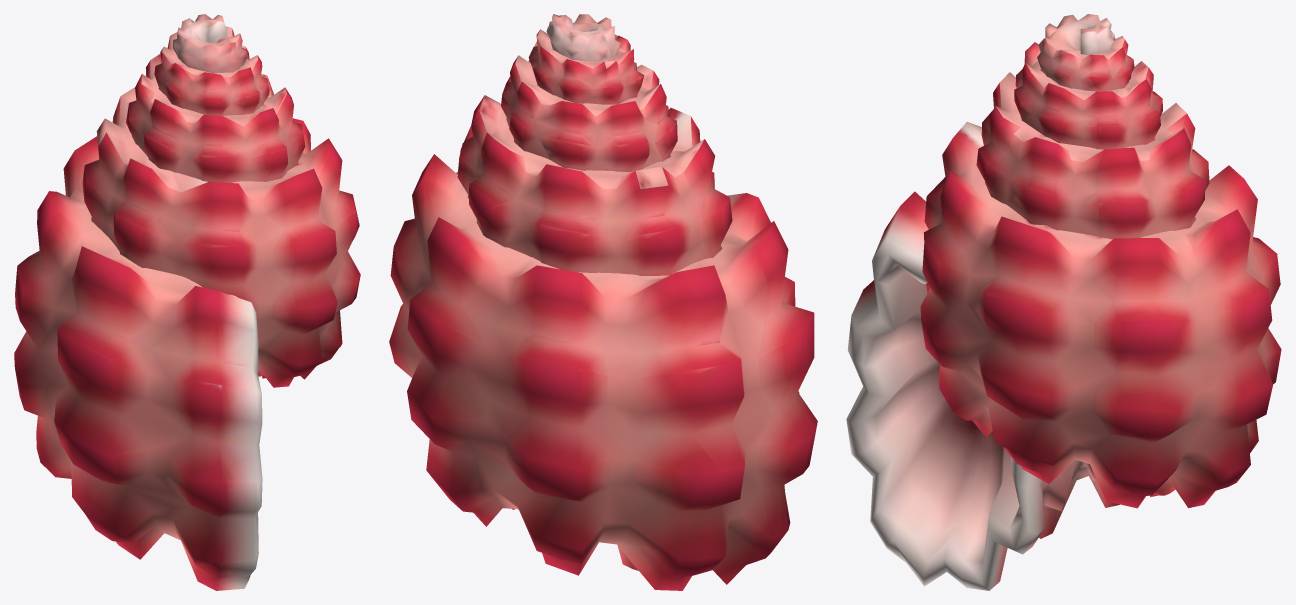
File: drupella.glb
The picture shows the model from 3 angles, left to right: view 1: azimuth 30°, elevation 25°; view 2: azimuth 150°, elevation 25°; view 3: azimuth 270°, elevation 25°; orthographic projection. The views are drawn at different scales.
Visible parts, largest first — view 1: Drupella_single; view 2: Drupella_single; view 3: Drupella_single.
Part boxes in pixels (x1,y1,x2,y2): Drupella_single: [14, 14, 360, 590]; Drupella_single: [389, 14, 817, 590]; Drupella_single: [846, 14, 1281, 590].
Bounding box in the file's own units: 0.0346 × 0.055 × 0.0372.
1 material, 1 textured.
